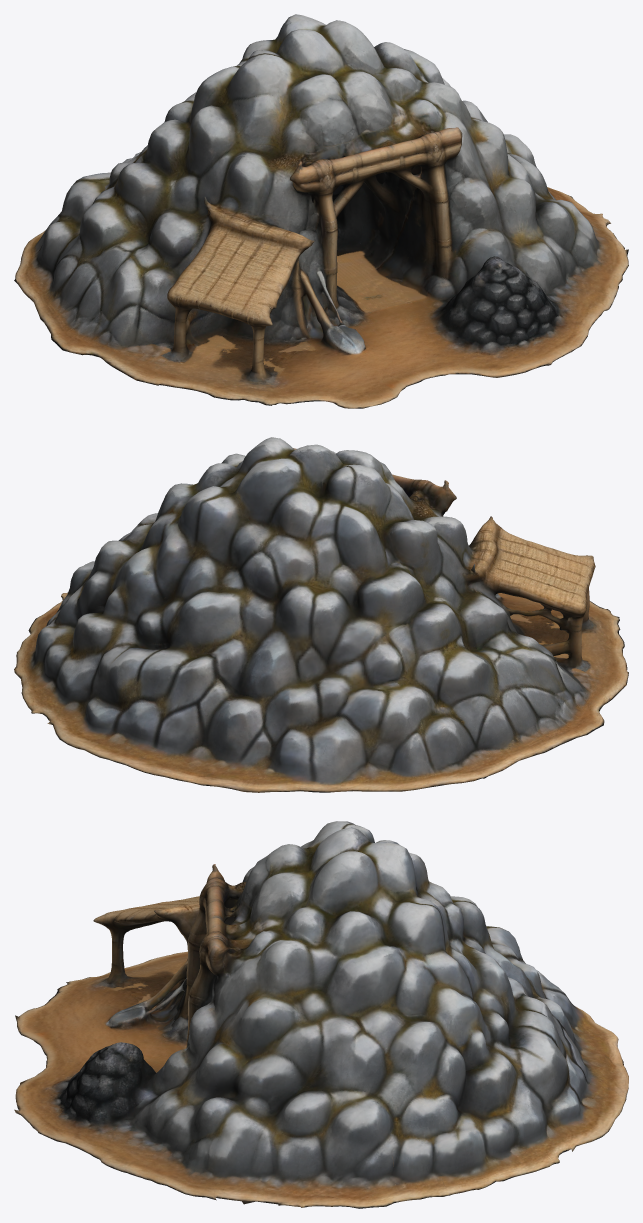
Rendered from Mine (Middle Eastern).fbx.
The picture shows the model from 3 angles, top to bottom: view 1: azimuth 30°, elevation 25°; view 2: azimuth 150°, elevation 25°; view 3: azimuth 270°, elevation 25°; orthographic projection. The views are drawn at different scales.
Visible parts, largest first — view 1: Mesh_0; view 2: Mesh_0; view 3: Mesh_0.
Part boxes in pixels (bbox=[...]): Mesh_0: bbox=[14, 14, 628, 408]; Mesh_0: bbox=[14, 437, 628, 792]; Mesh_0: bbox=[14, 821, 628, 1208].
Size of the model in its own units: 200 by 84.01 by 192.
Materials: 1 (1 with a texture image).
